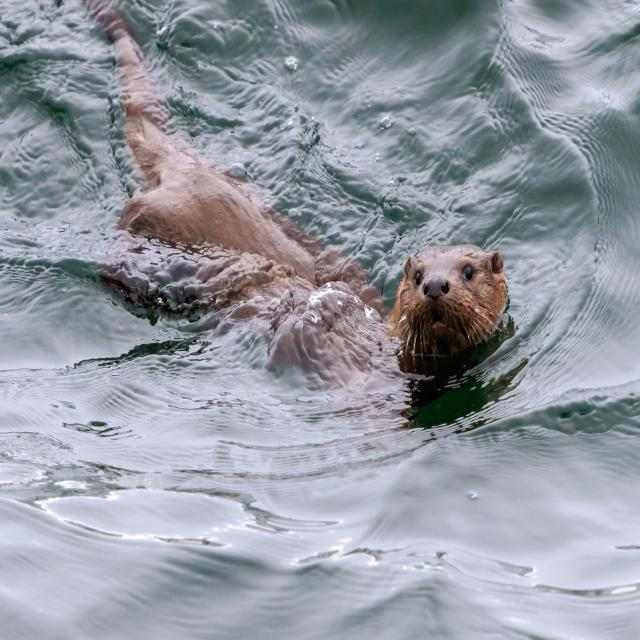otter: (391, 244, 511, 352)
